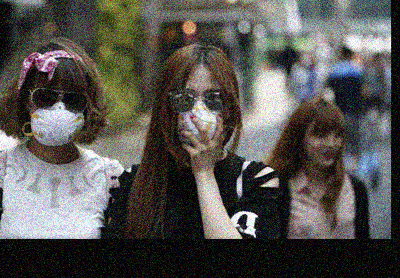with_mask: (29, 82, 86, 147), (175, 84, 227, 145)
without_mask: (304, 127, 341, 167)
